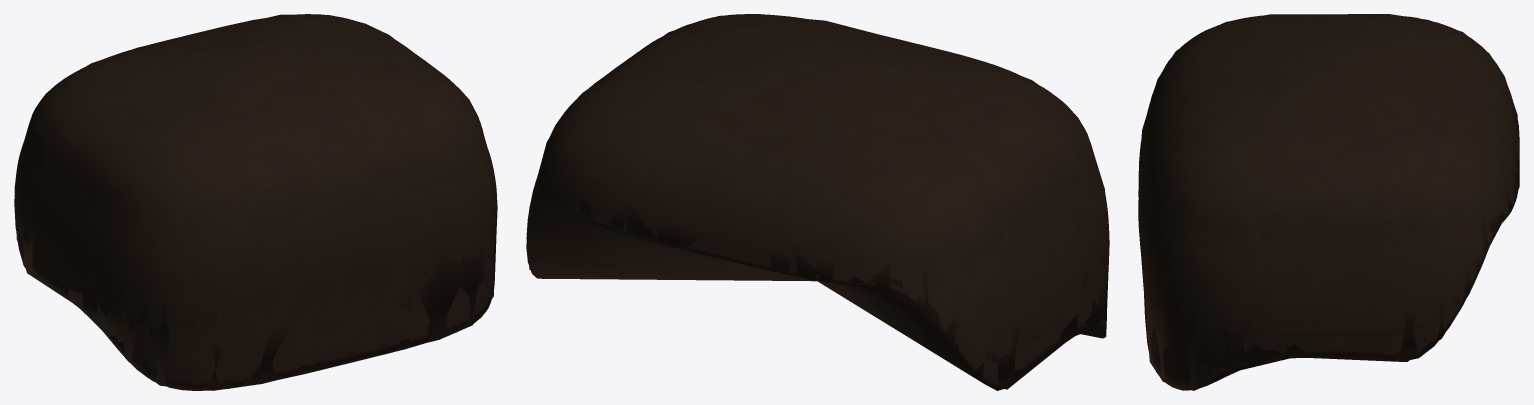
File: buzz.glb
3 views of the same model, side by side, from view 1: azimuth 30°, elevation 25°; view 2: azimuth 150°, elevation 25°; view 3: azimuth 270°, elevation 25° (orthographic). The views are drawn at different scales.
Parts seen in each view (by area): view 1: near, mid, far; view 2: near, mid, far; view 3: near, mid, far.
Boxes of the visible parts, x1,y1,x2,y2 form: near: (14, 14, 497, 388); mid: (14, 14, 496, 390); far: (14, 14, 497, 390); near: (526, 14, 1109, 390); mid: (526, 14, 1109, 390); far: (526, 15, 1109, 389); near: (1138, 14, 1519, 390); mid: (1138, 14, 1519, 390); far: (1138, 14, 1519, 390).
Size of the model in its own units: 1.09 by 0.6581 by 0.8841.
1 material, 1 textured.
